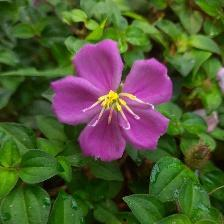malabar melastome: (50, 38, 176, 165)
